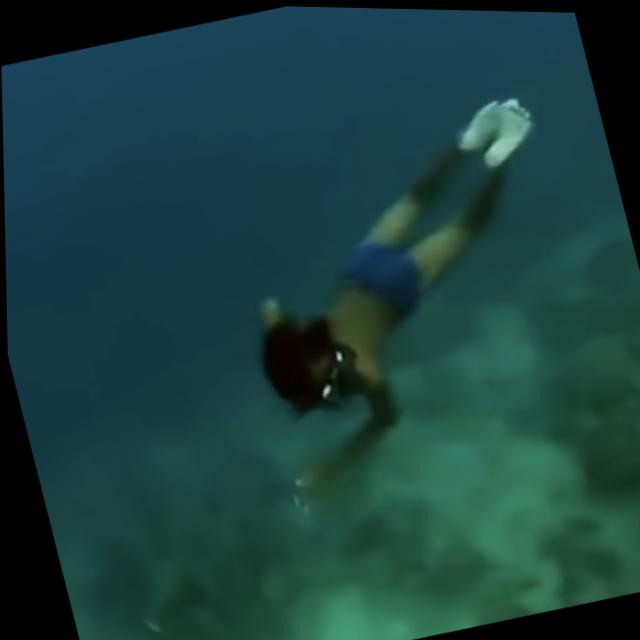human: (166, 70, 630, 544)
